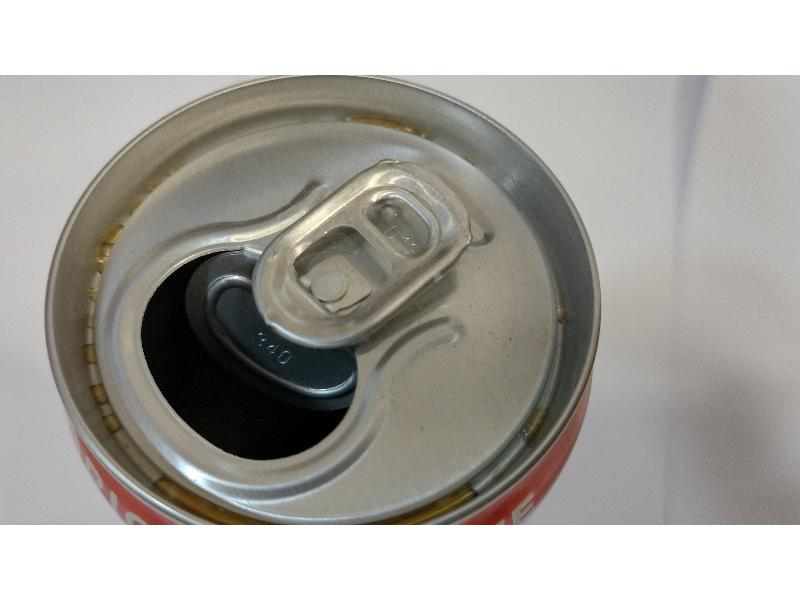can: (42, 75, 610, 520)
